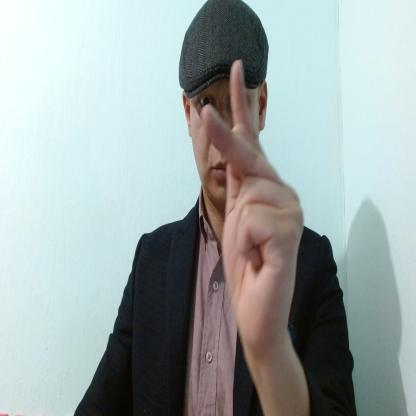P: (200, 57, 304, 353)
